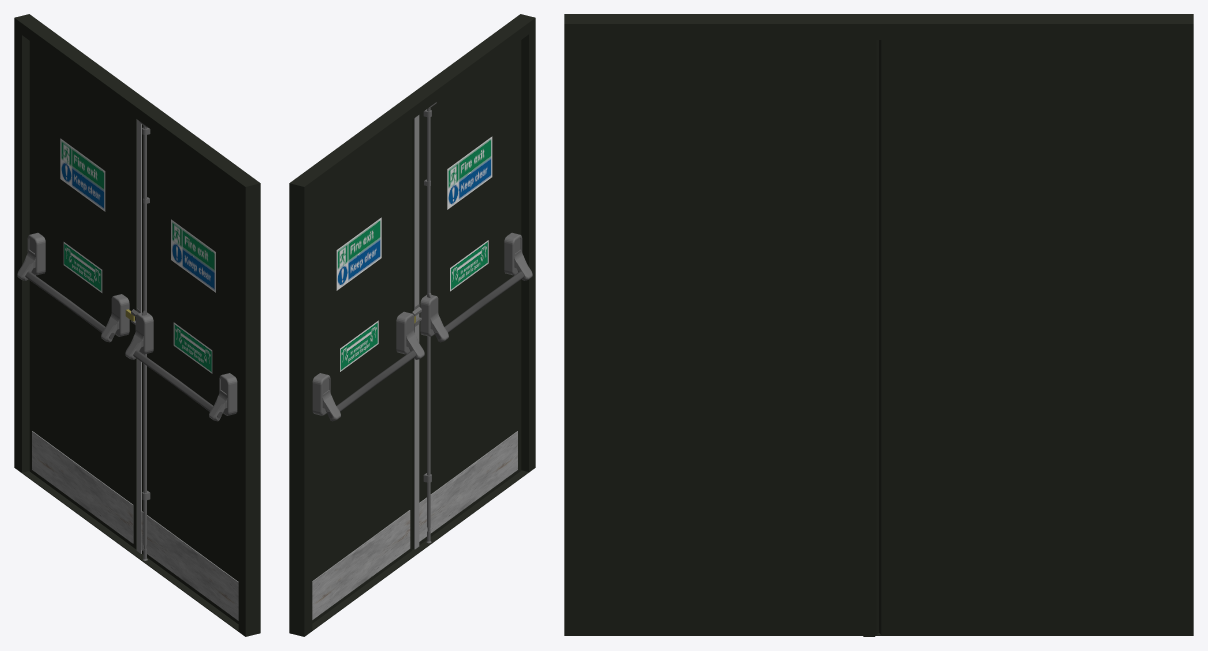
File: porta.glb
3 views of the same model, side by side, from view 1: azimuth 30°, elevation 25°; view 2: azimuth 150°, elevation 25°; view 3: azimuth 270°, elevation 25° (orthographic). The views are drawn at different scales.
Visible parts, largest first — view 1: Rear Doors_5, Door Metal guard_3, Door Handle Mechanism_2, Object_4, Object_13, Door Handle_1; view 2: Rear Doors_5, Door Metal guard_3, Door Handle Mechanism_2, Object_4, Object_13, Door Handle_1; view 3: Rear Doors_5.
Part boxes in pixels (x1=…): Rear Doors_5: x1=14, y1=14, x2=260, y2=636; Door Metal guard_3: x1=32, y1=431, x2=238, y2=620; Door Handle Mechanism_2: x1=17, y1=121, x2=237, y2=560; Object_4: x1=60, y1=138, x2=215, y2=292; Object_13: x1=63, y1=242, x2=212, y2=373; Door Handle_1: x1=25, y1=271, x2=222, y2=418; Rear Doors_5: x1=289, y1=14, x2=535, y2=636; Door Metal guard_3: x1=312, y1=431, x2=517, y2=619; Door Handle Mechanism_2: x1=312, y1=102, x2=532, y2=543; Object_4: x1=336, y1=136, x2=492, y2=290; Object_13: x1=340, y1=240, x2=488, y2=371; Door Handle_1: x1=327, y1=271, x2=524, y2=418; Rear Doors_5: x1=564, y1=14, x2=1193, y2=636.
Size of the model in its own units: 0.1093 by 1.57 by 1.45.
8 materials, 3 textured.
